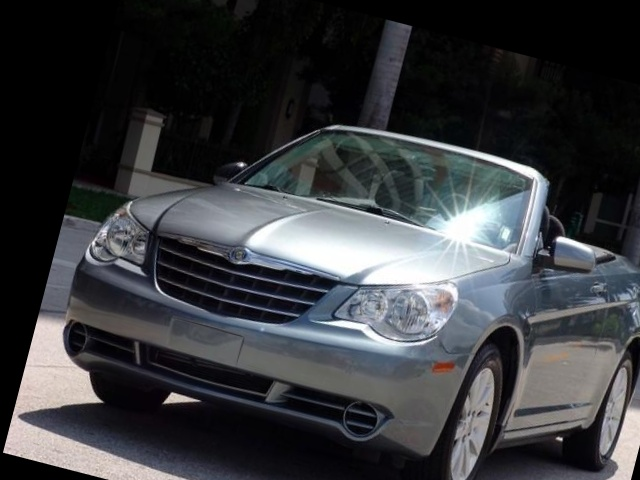car: (3, 27, 640, 480)
